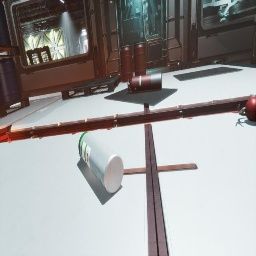0: (78, 132, 124, 194)
FireExtinguisher ]: (236, 97, 256, 122)
NitrogenTank ,: (127, 72, 162, 92)
